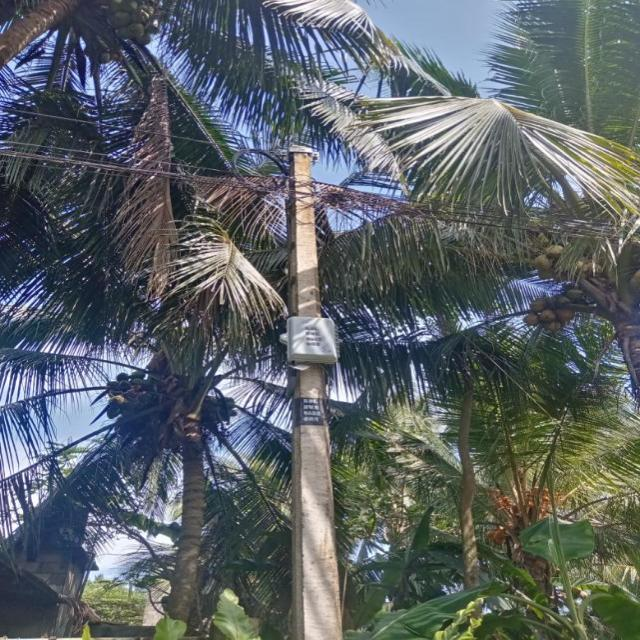light_pole: (272, 135, 354, 640)
